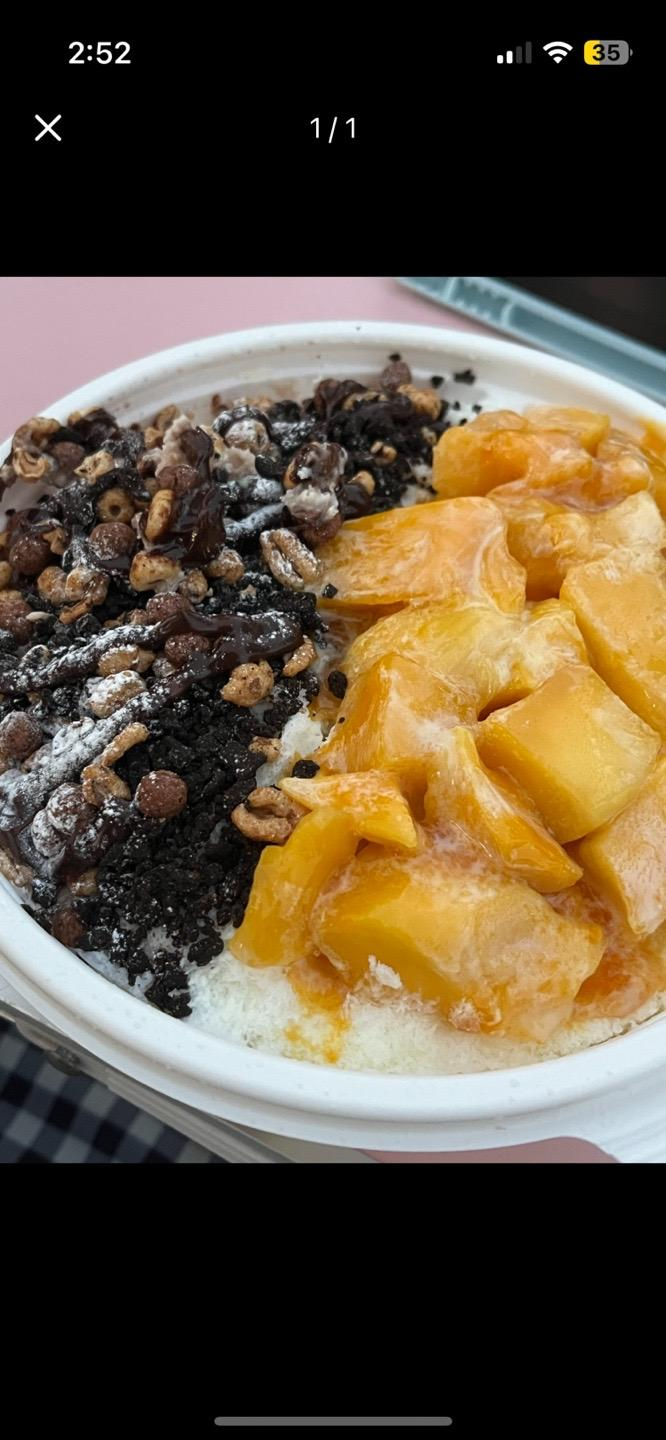Lunch Box: (0, 323, 665, 1160)
